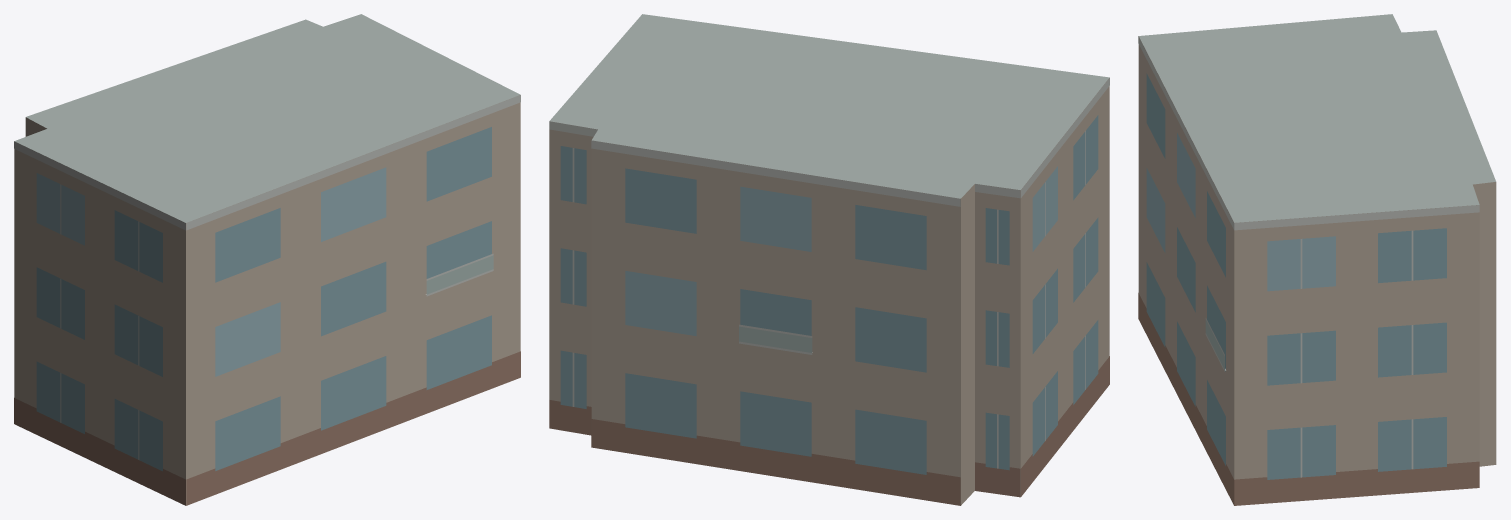
The model's file is survey-upis-32752362.glb.
3 views of the same model, side by side, from view 1: azimuth 30°, elevation 25°; view 2: azimuth 150°, elevation 25°; view 3: azimuth 270°, elevation 25° (orthographic). The views are drawn at different scales.
Visible parts, largest first — view 1: survey-upis-32752362.tmp; view 2: survey-upis-32752362.tmp; view 3: survey-upis-32752362.tmp.
Part boxes in pixels (<box>): survey-upis-32752362.tmp: <box>14,14,520,505</box>; survey-upis-32752362.tmp: <box>549,14,1109,505</box>; survey-upis-32752362.tmp: <box>1138,14,1496,505</box>.
Size of the model in its own units: 14.49 by 9.15 by 10.49.
